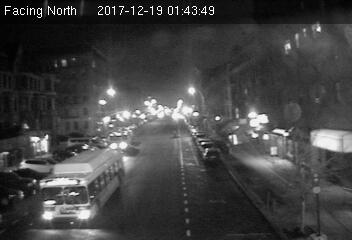bus: (37, 147, 129, 225)
